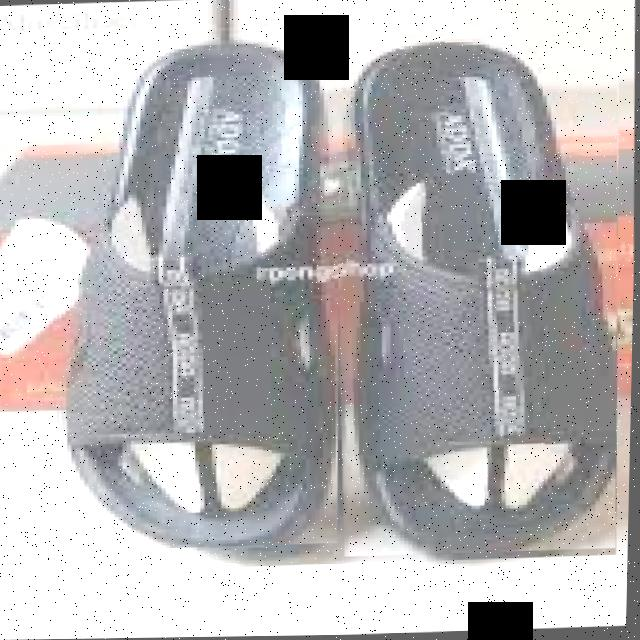shoe: (46, 29, 627, 572), (322, 30, 626, 558), (46, 39, 348, 552)
